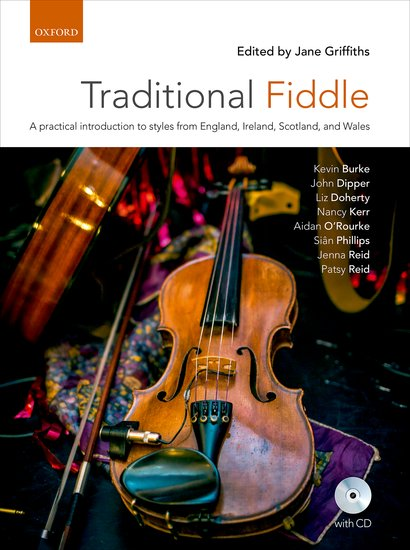Fiddle: (100, 180, 318, 539)
